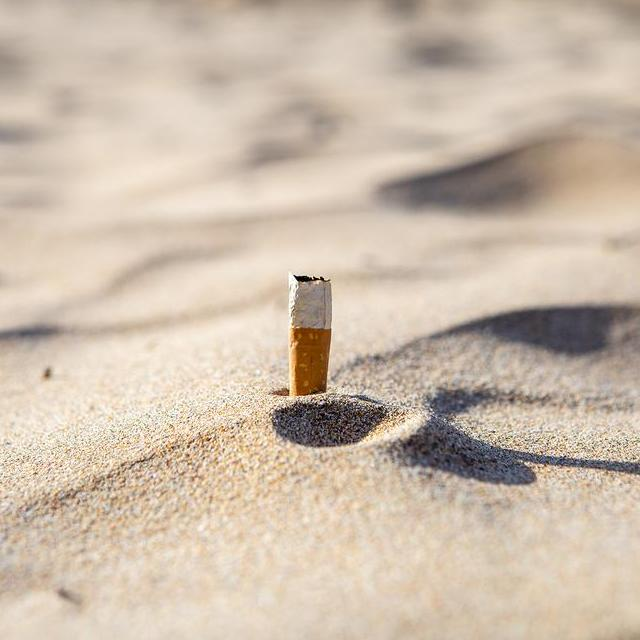Cigarette Butt: (286, 268, 335, 398)
